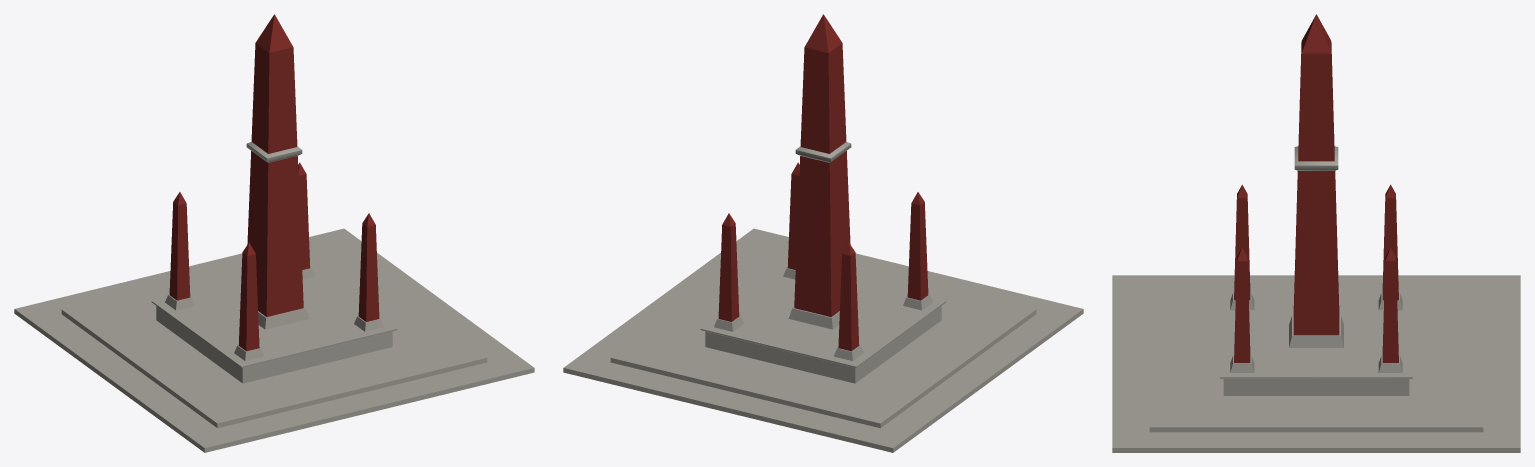
File: Monument10.fbx
3 renders of one model, left to right at view 1: azimuth 30°, elevation 25°; view 2: azimuth 150°, elevation 25°; view 3: azimuth 270°, elevation 25°, orthographic. The views are drawn at different scales.
Visible parts, largest first — view 1: Monument10; view 2: Monument10; view 3: Monument10.
Boxes of the visible parts, <box> form: Monument10: <box>14,14,534,452</box>; Monument10: <box>563,14,1083,452</box>; Monument10: <box>1112,14,1520,452</box>.
Size of the model in its own units: 11 by 10.49 by 11.
